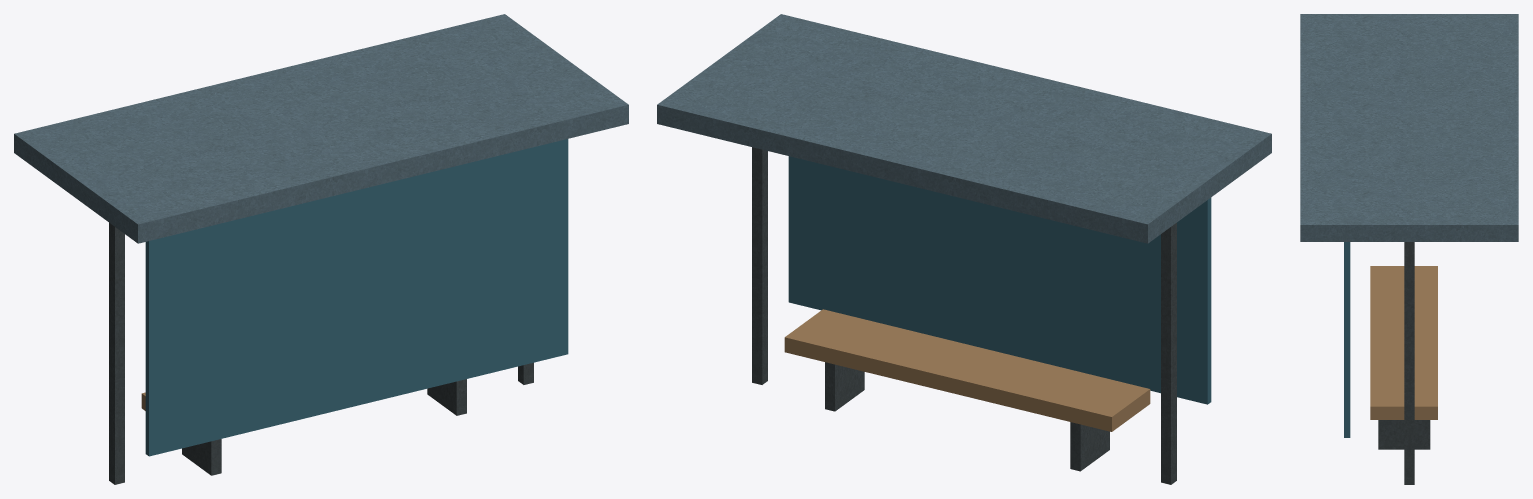
Rendered from bus_shelter.glb.
3 renders of one model, left to right at view 1: azimuth 30°, elevation 25°; view 2: azimuth 150°, elevation 25°; view 3: azimuth 270°, elevation 25°, orthographic. The views are drawn at different scales.
Visible parts, largest first — view 1: bus_shelter; view 2: bus_shelter; view 3: bus_shelter.
Boxes of the visible parts, left/top/right/bottom form: bus_shelter: left=14, top=14, right=628, bottom=484; bus_shelter: left=657, top=14, right=1271, bottom=484; bus_shelter: left=1300, top=14, right=1518, bottom=484.
Size of the model in its own units: 4.8 by 2.92 by 2.1.
